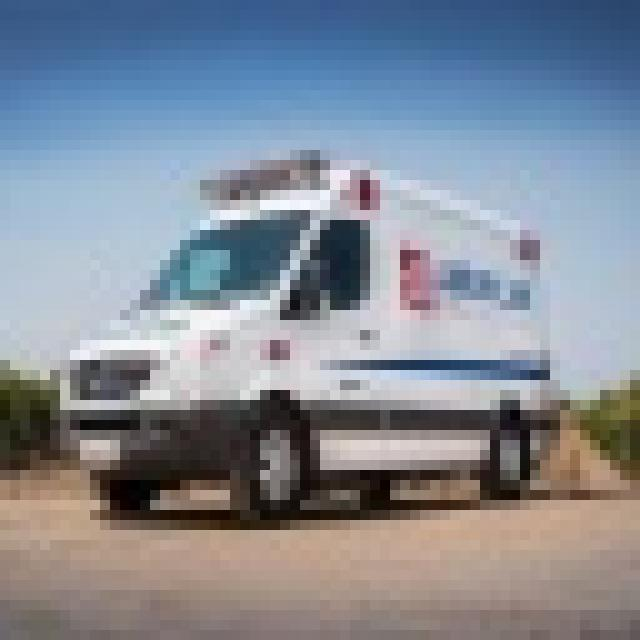Ambulance: (50, 140, 560, 520)
